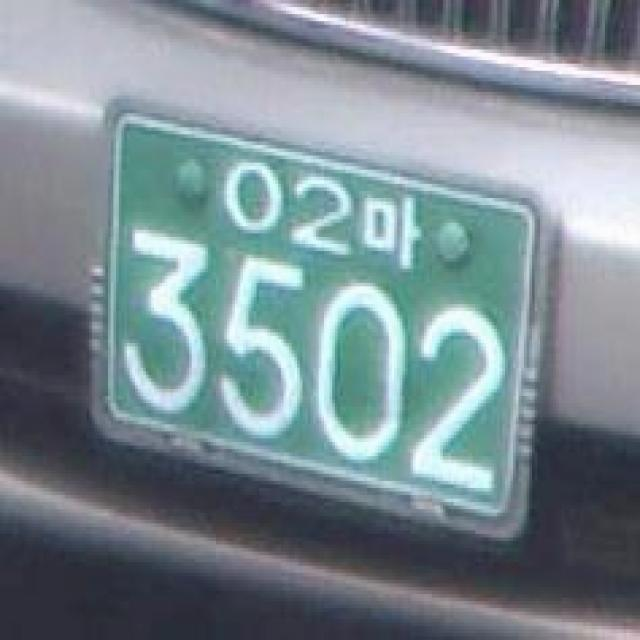illegal_plate: (84, 98, 558, 549)
